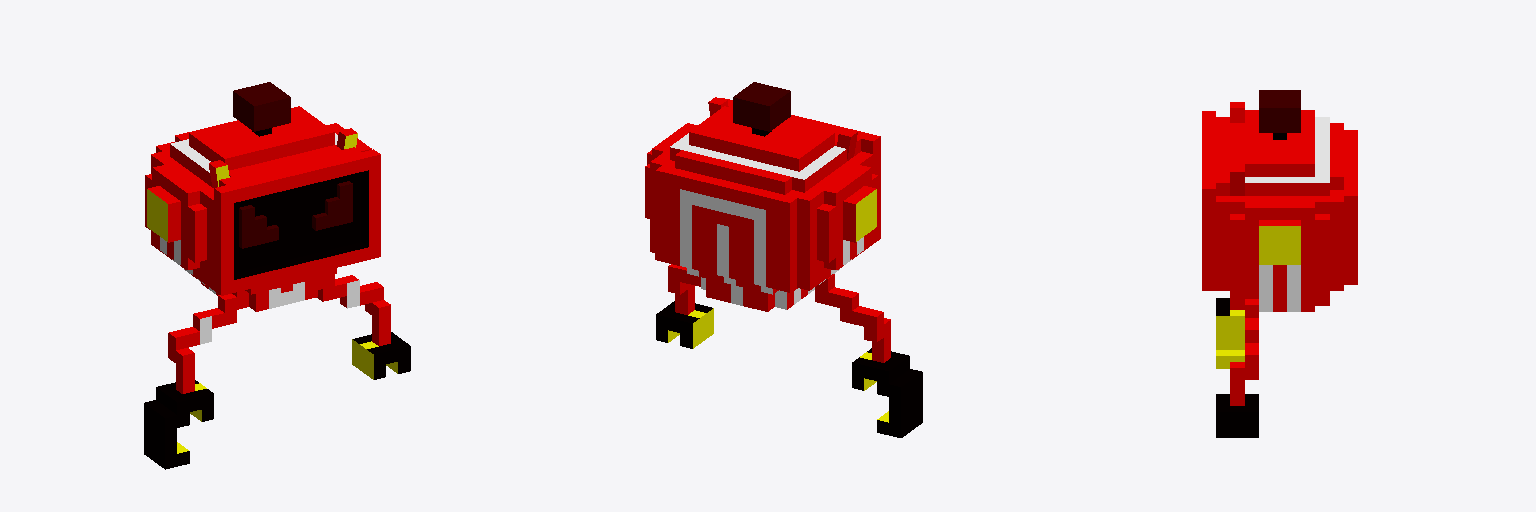
The model's file is Explode.obj.
The picture shows the model from 3 angles: view 1: azimuth 30°, elevation 25°; view 2: azimuth 150°, elevation 25°; view 3: azimuth 270°, elevation 25°; orthographic projection.
Visible parts, largest first — view 1: pCube2 ExplodeWithouRings; view 2: pCube2 ExplodeWithouRings; view 3: pCube2 ExplodeWithouRings.
Boxes of the visible parts, box(x1,y1,x2,y2) form: pCube2 ExplodeWithouRings: box(144, 82, 410, 469); pCube2 ExplodeWithouRings: box(645, 82, 922, 437); pCube2 ExplodeWithouRings: box(1202, 90, 1357, 437).
Size of the model in its own units: 2 by 2.5 by 1.1.